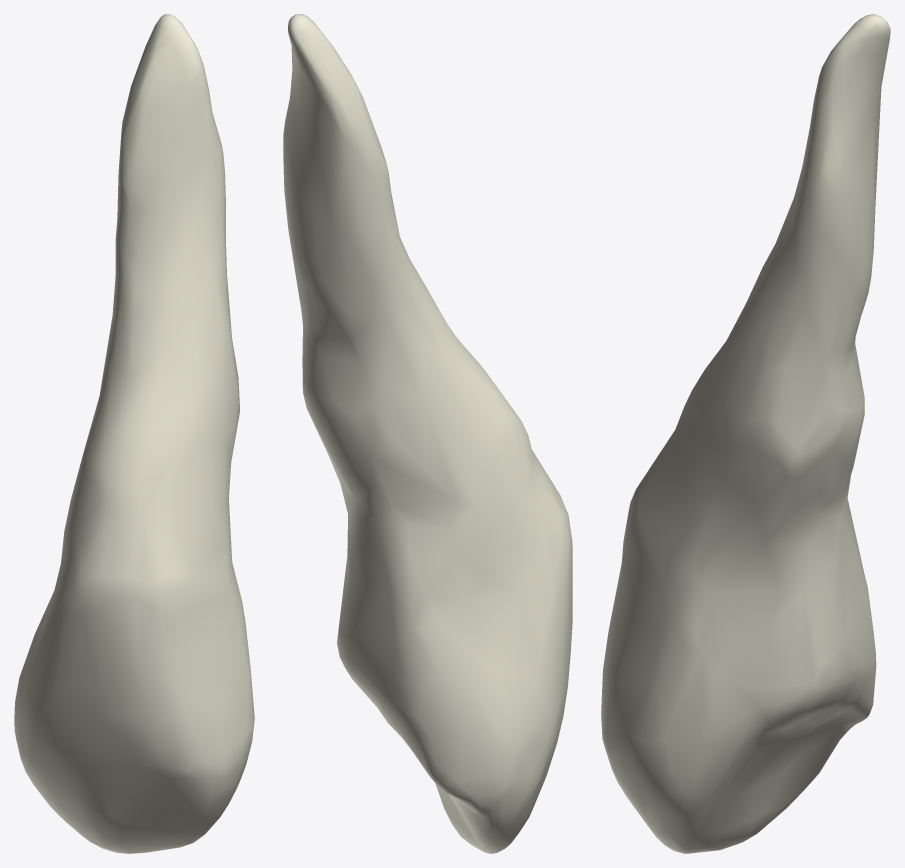
Rendered from Right upper canine tooth.fbx.
3 views of the same model, side by side, from view 1: azimuth 30°, elevation 25°; view 2: azimuth 150°, elevation 25°; view 3: azimuth 270°, elevation 25° (orthographic). The views are drawn at different scales.
Parts seen in each view (by area): view 1: Right upper canine tooth; view 2: Right upper canine tooth; view 3: Right upper canine tooth.
Part boxes in pixels (box(x1,y1,x2,y2)): Right upper canine tooth: box(14, 14, 254, 853); Right upper canine tooth: box(283, 14, 572, 853); Right upper canine tooth: box(601, 14, 890, 853).
Size of the model in its own units: 1.23 by 4.18 by 1.23.
